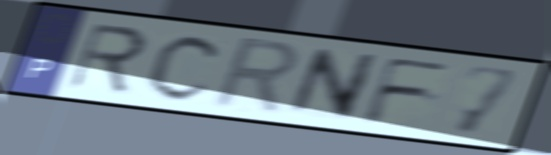7: (453, 61, 521, 140)
C: (143, 32, 228, 103)
F: (358, 55, 457, 126)
N: (282, 46, 385, 123)
R: (206, 34, 304, 119), (64, 21, 151, 97)
